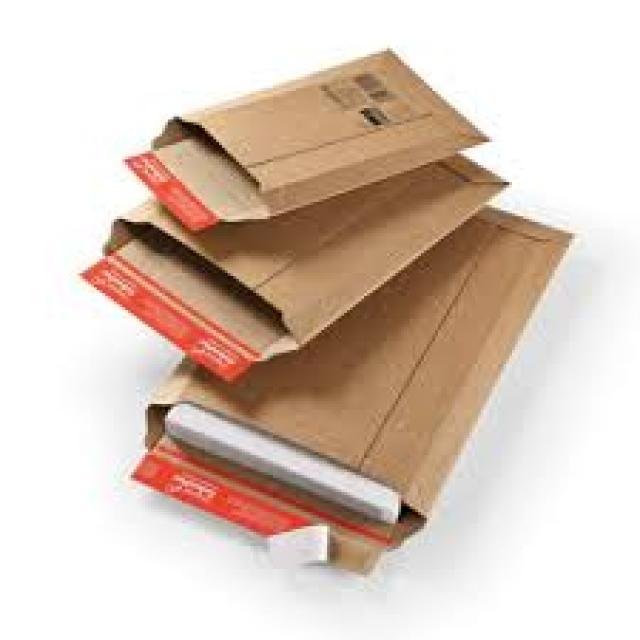Cardboard: (144, 49, 487, 225)
